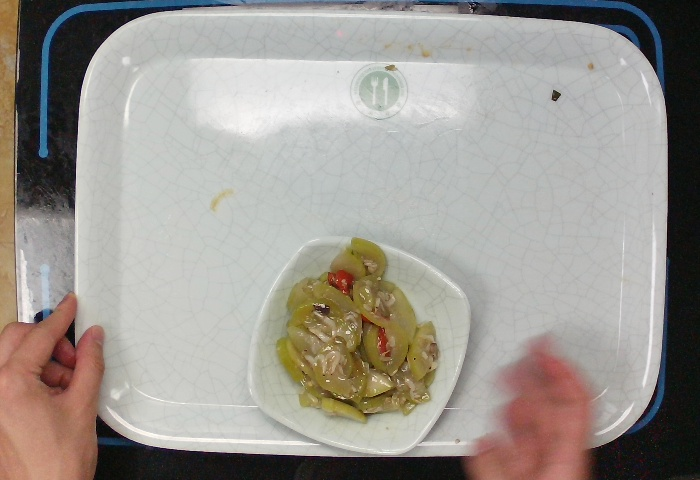WCQzf-Da_Si_Fang_Die: (244, 232, 473, 457)
